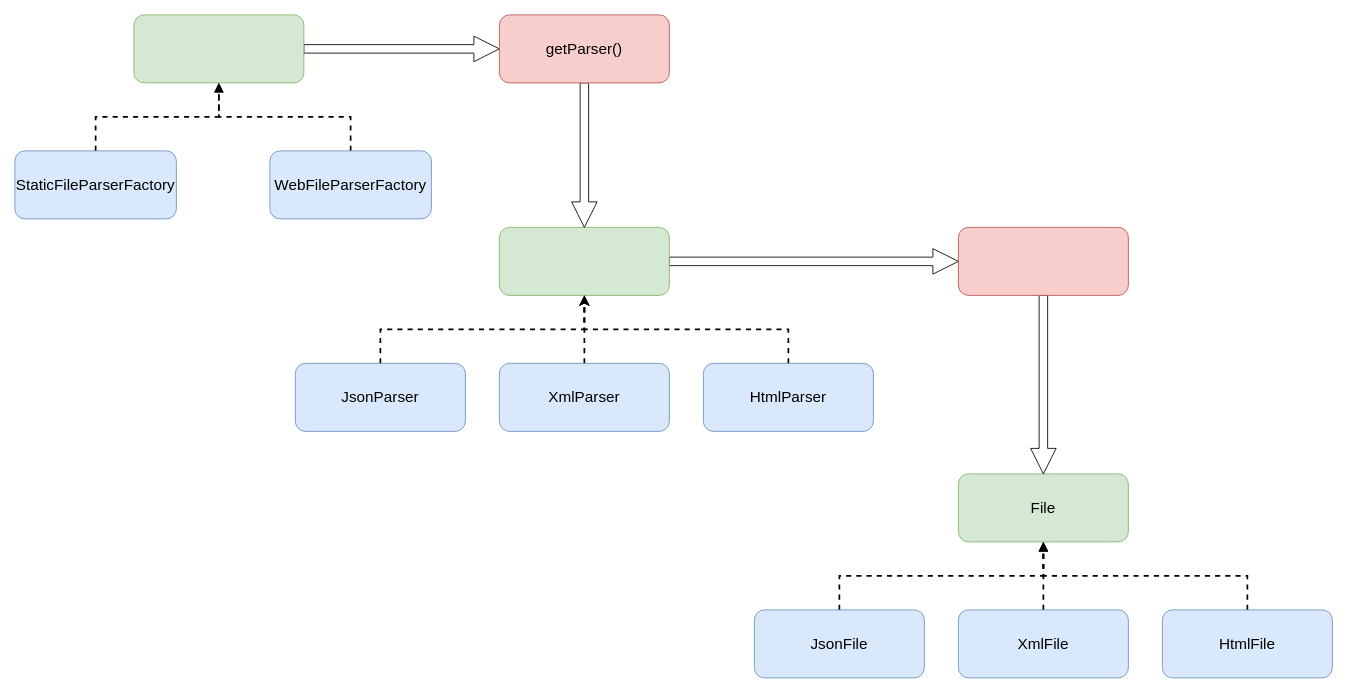
Image size: 1347x693. Some labels were removed from this diagram. Each missing label, with the centre of its shape:
FileParserFactory: point (218, 48)
parse(): point (1043, 261)
Parser: point (584, 261)
